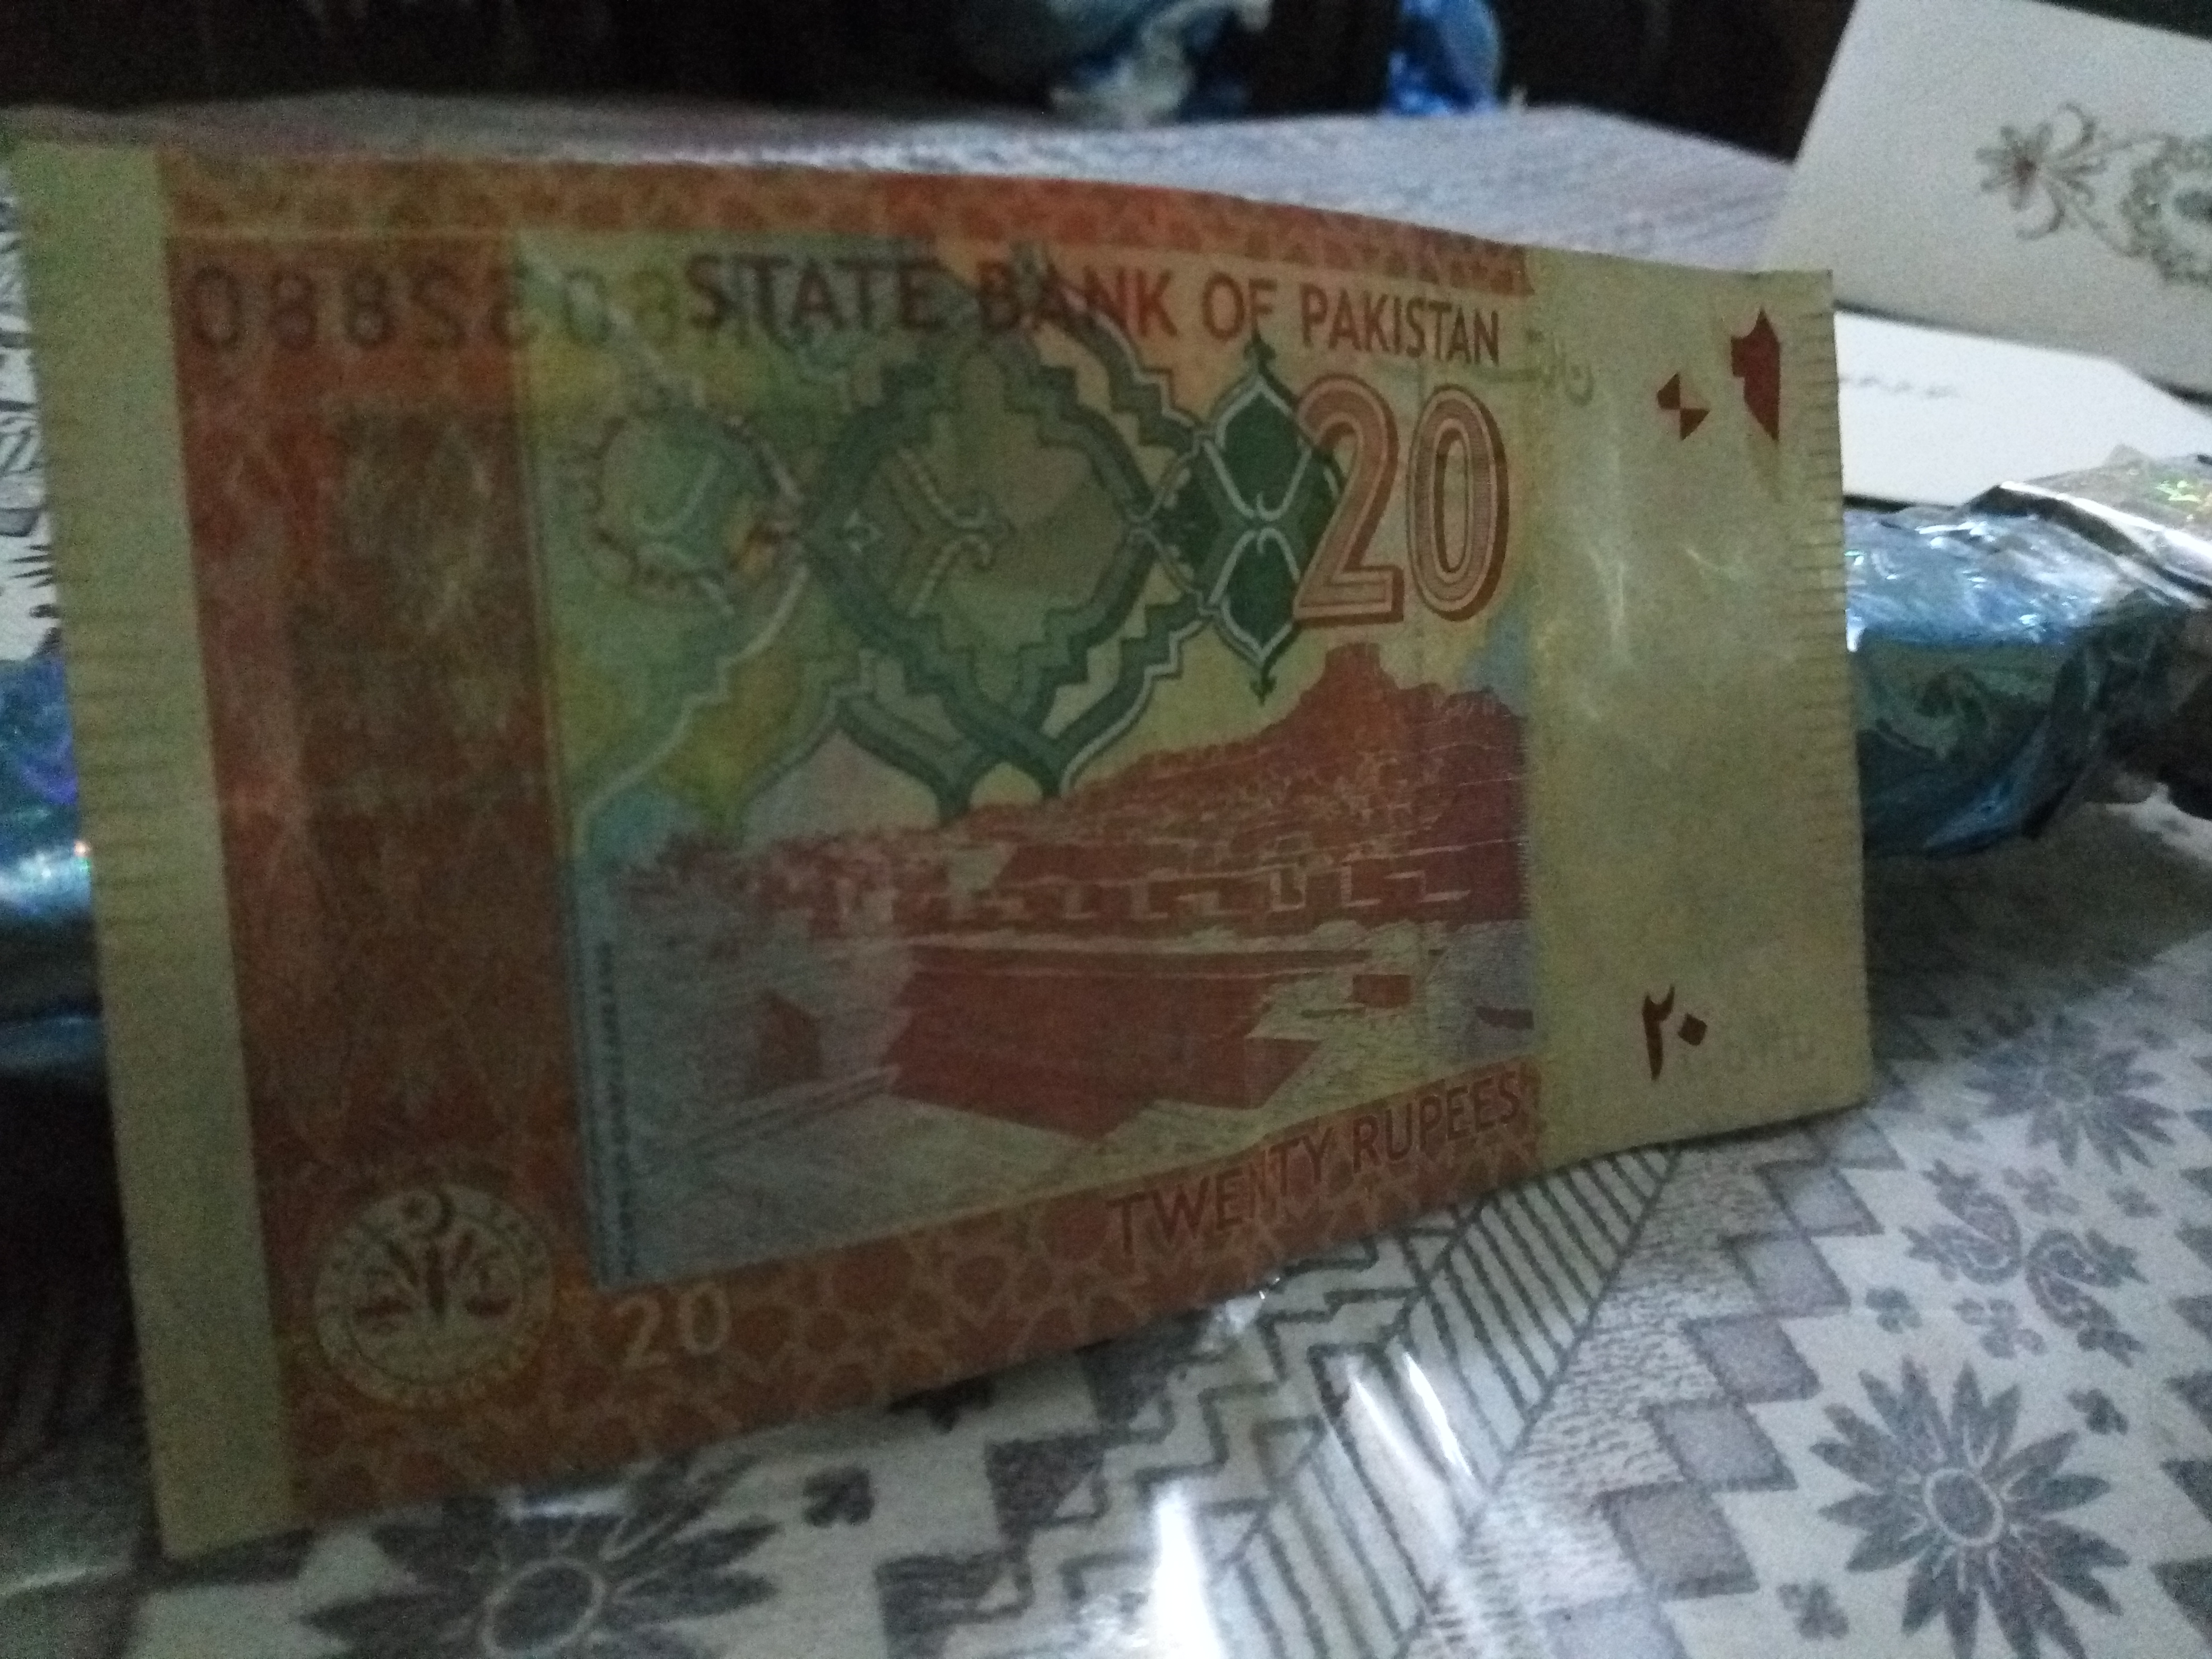20 rupee: (19, 96, 1907, 1466)
